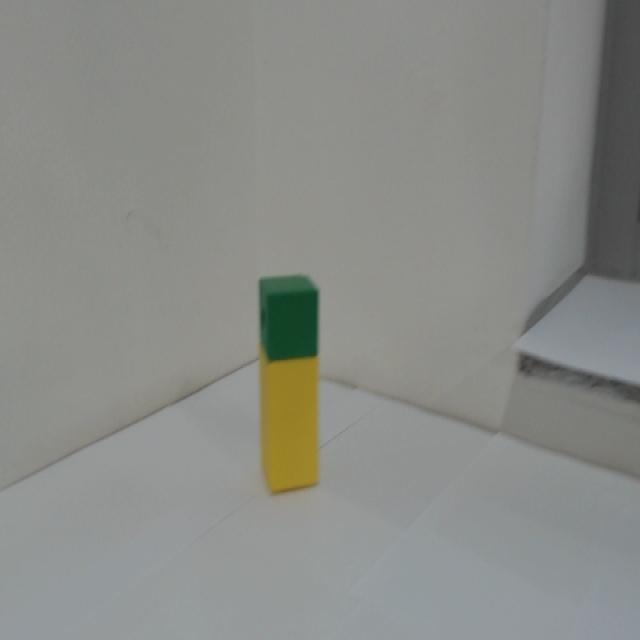cube: (258, 272, 321, 360)
